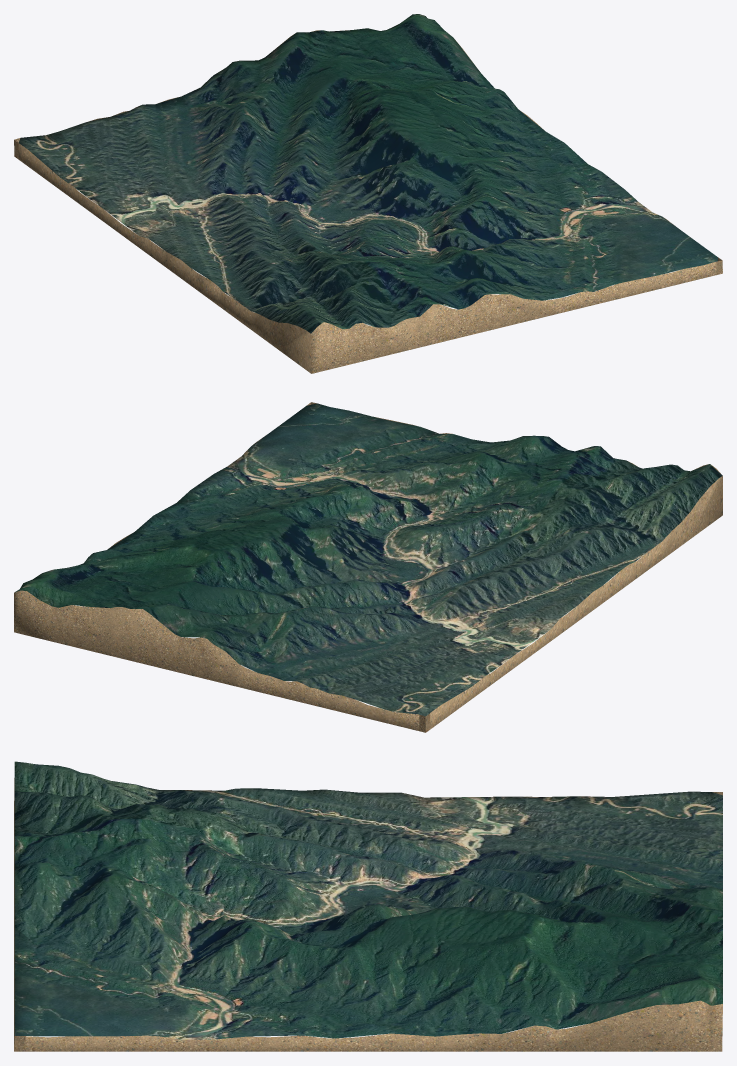
The model's file is agua.glb.
3 views of the same model, one above another, from view 1: azimuth 30°, elevation 25°; view 2: azimuth 150°, elevation 25°; view 3: azimuth 270°, elevation 25° (orthographic). The views are drawn at different scales.
Parts seen in each view (by area): view 1: EXPORT_GOOGLE_SAT_WM; view 2: EXPORT_GOOGLE_SAT_WM; view 3: EXPORT_GOOGLE_SAT_WM.
Part boxes in pixels (left/top/right/bottom): EXPORT_GOOGLE_SAT_WM: left=14, top=14, right=722, bottom=373; EXPORT_GOOGLE_SAT_WM: left=14, top=402, right=722, bottom=732; EXPORT_GOOGLE_SAT_WM: left=14, top=761, right=722, bottom=1051.
Bounding box in the file's own units: 9.79 × 1.25 × 12.24.
Materials: 2 (2 with a texture image).
